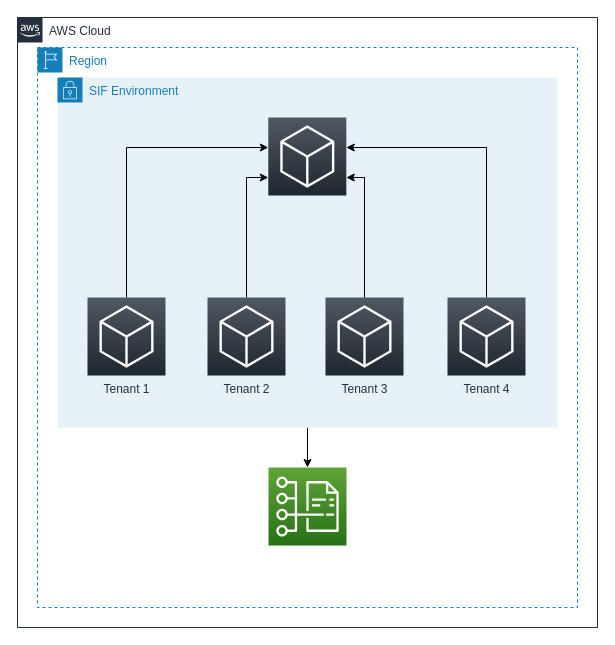
The diagram is 615 pixels wide and 645 high, and some of its shapes have lost their labels. The centre of each missing label's shape, as x and y in pixels:
"Cost Allocation Tagging" goes at (307,506).
"Shared Infrastructure" goes at (306,156).
